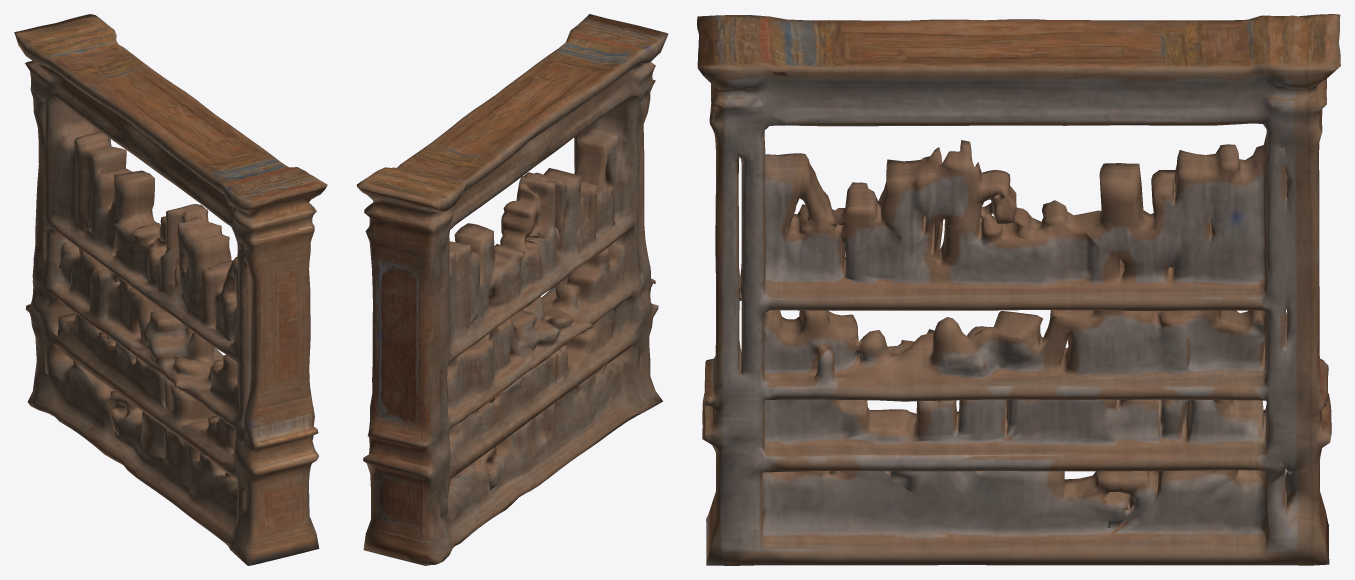
The model's file is Horror_and_creepy_ver_0124152933_stylize.fbx.
3 renders of one model, left to right at view 1: azimuth 30°, elevation 25°; view 2: azimuth 150°, elevation 25°; view 3: azimuth 270°, elevation 25°, orthographic. The views are drawn at different scales.
Parts seen in each view (by area): view 1: Mesh_0; view 2: Mesh_0; view 3: Mesh_0.
Boxes of the visible parts, x1=… form: Mesh_0: x1=14, y1=14, x2=327, y2=565; Mesh_0: x1=356, y1=14, x2=668, y2=565; Mesh_0: x1=697, y1=14, x2=1340, y2=565.
Bounding box in the file's own units: 40.48 × 173 × 201.
1 material, 1 textured.
